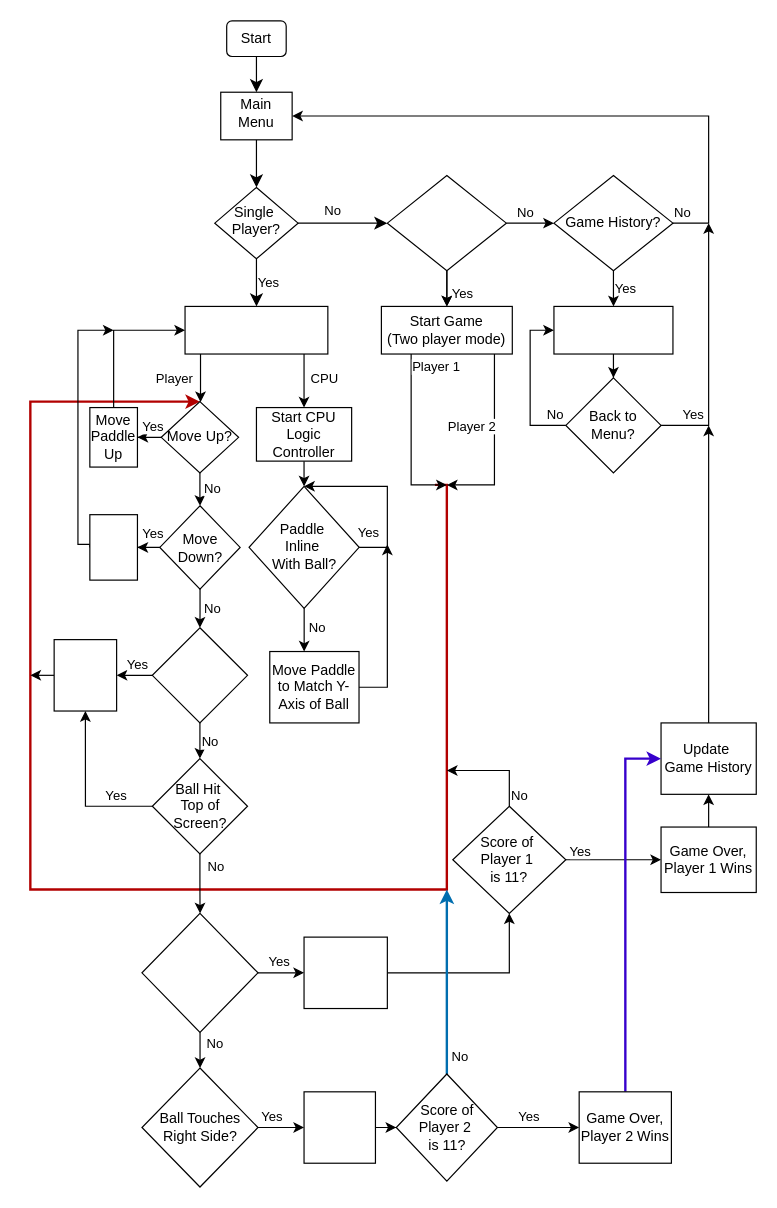
Image size: 777x1208. Some labels were removed from this diagram. Each missing label, with the box of its shape:
Ball Hit Paddle?: (151, 627, 248, 723)
Ball Touches Left Side?: (141, 912, 258, 1032)
Display Game History: (553, 305, 673, 354)
Increment Score of Player 1: (303, 936, 387, 1009)
Increment Score of Player 2: (303, 1091, 375, 1163)
Move Paddle Down: (89, 513, 137, 580)
Rebound Ball in Opposite Direction: (53, 638, 117, 711)
Start Game (Single player mode): (184, 305, 328, 354)
Two Player?: (386, 174, 506, 271)
